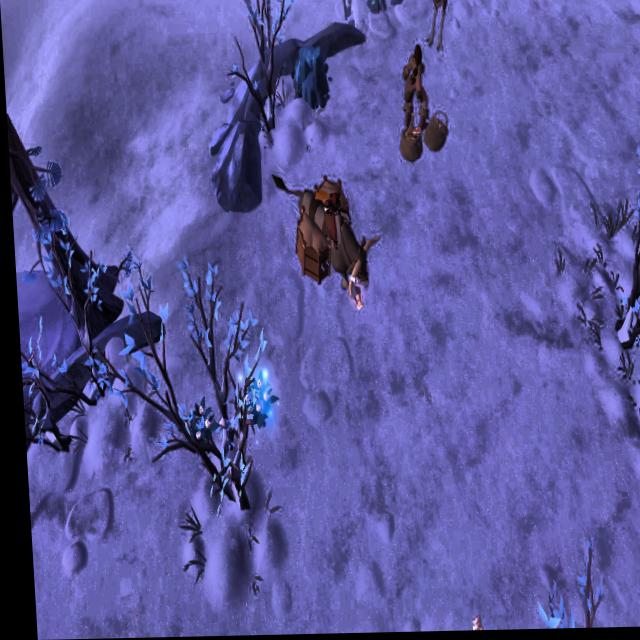enemy_factionKeeper: (395, 44, 427, 132)
fiber_t4: (237, 369, 276, 437), (174, 393, 217, 452)
rock_t4: (291, 45, 331, 112)
